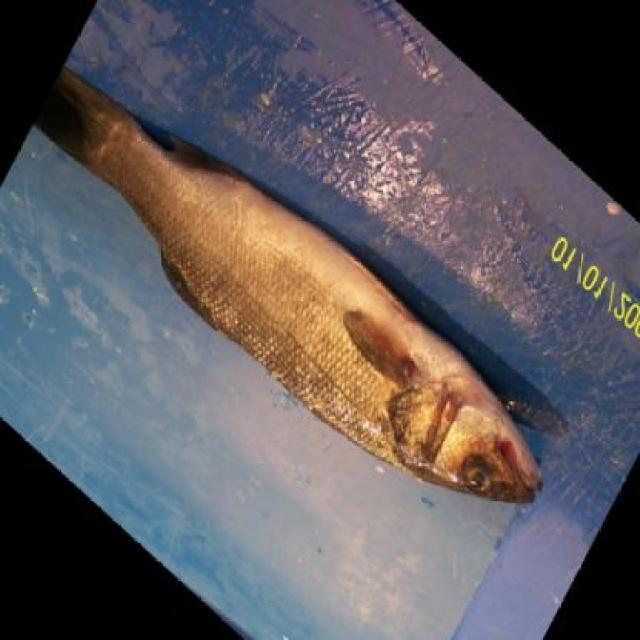Healthy Fish: (39, 61, 548, 513)
